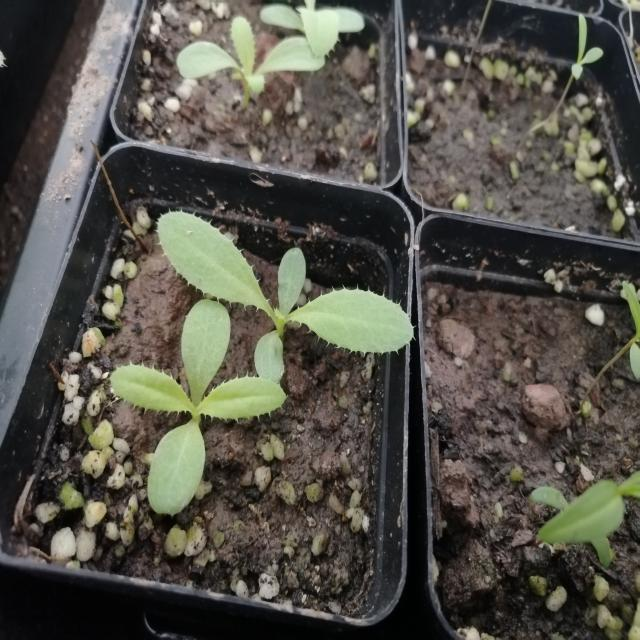field_thistle: (146, 178, 411, 379), (95, 302, 314, 510)
